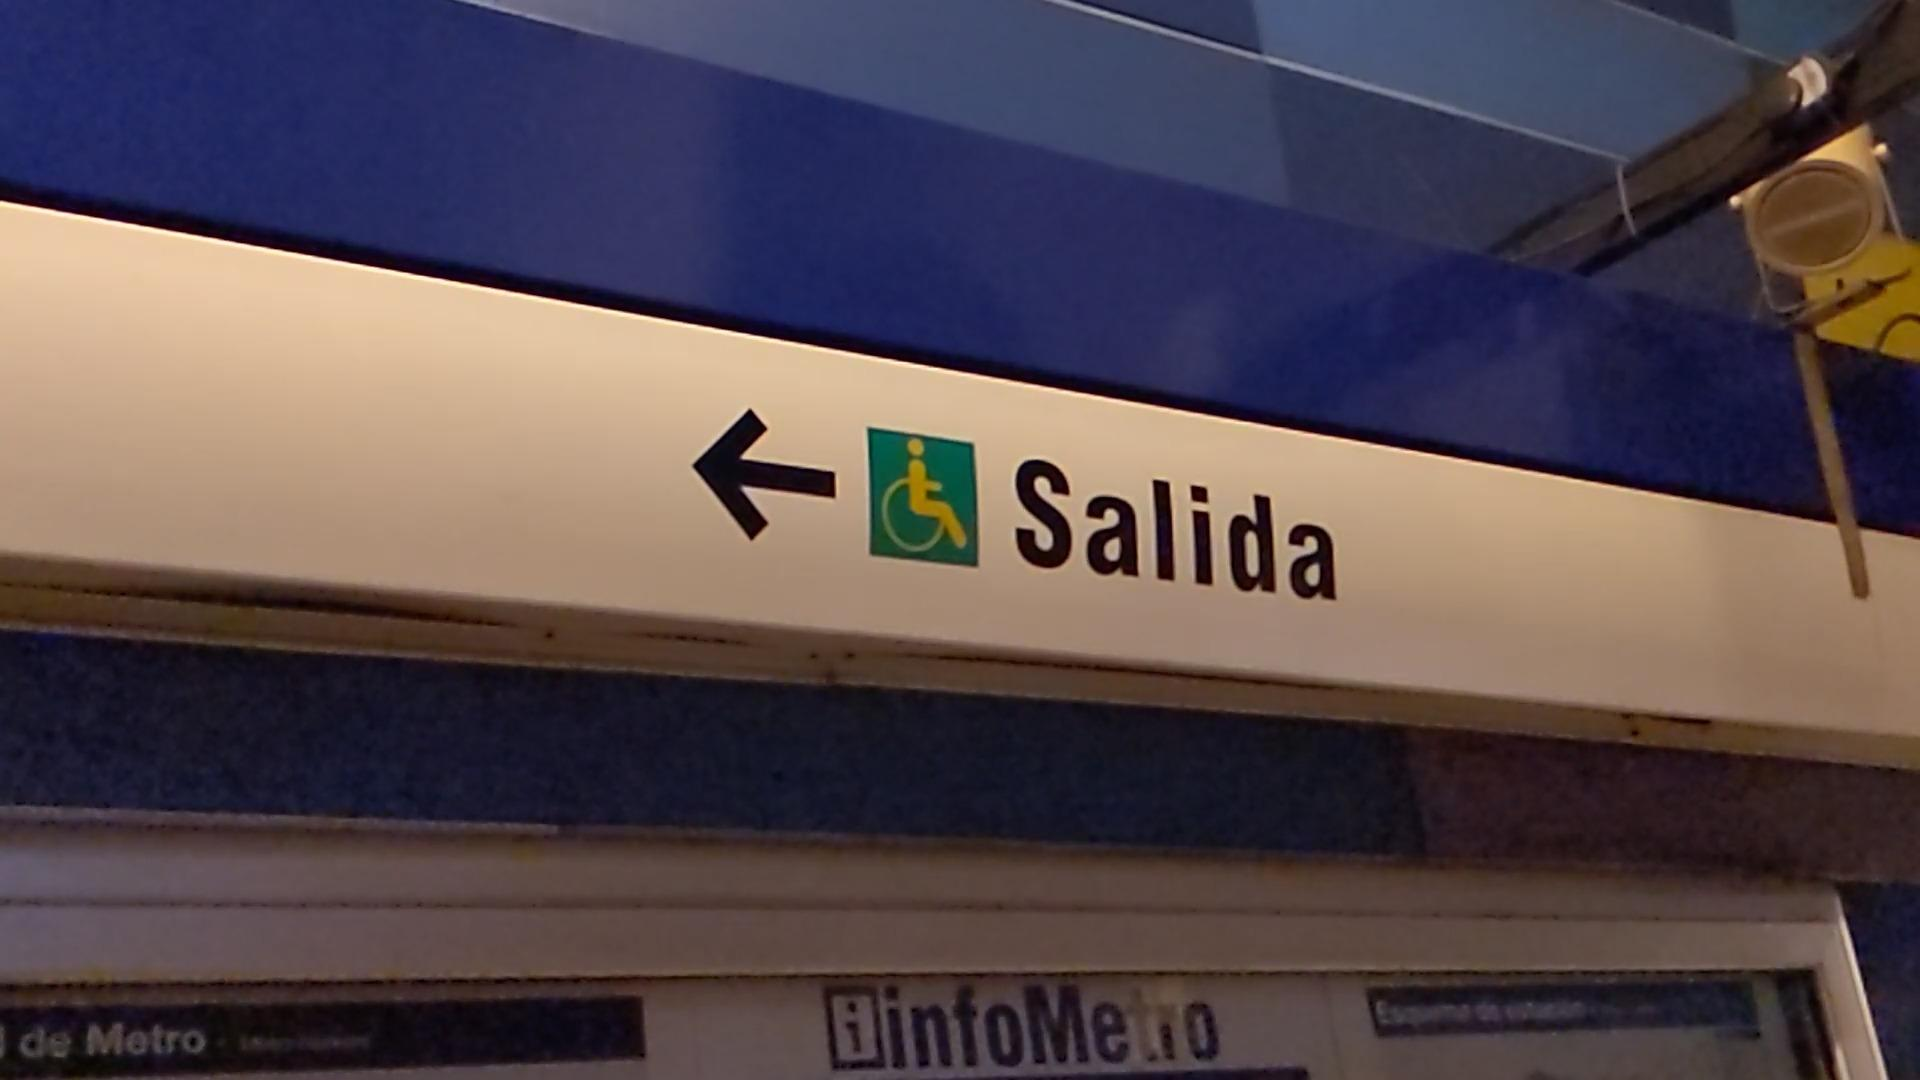handicapped symbol: (880, 434, 972, 560)
left arrow: (692, 405, 843, 547)
